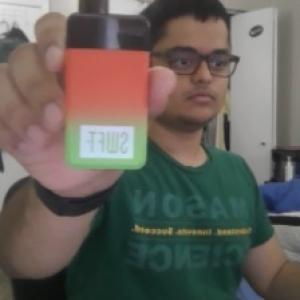Swift-E-Ciggirate: (62, 2, 154, 172)
